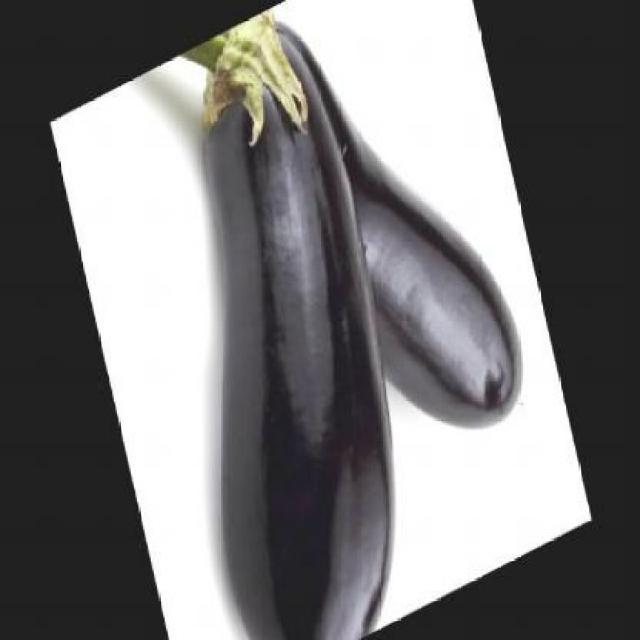eggplant: (188, 0, 398, 640), (273, 0, 535, 488)
